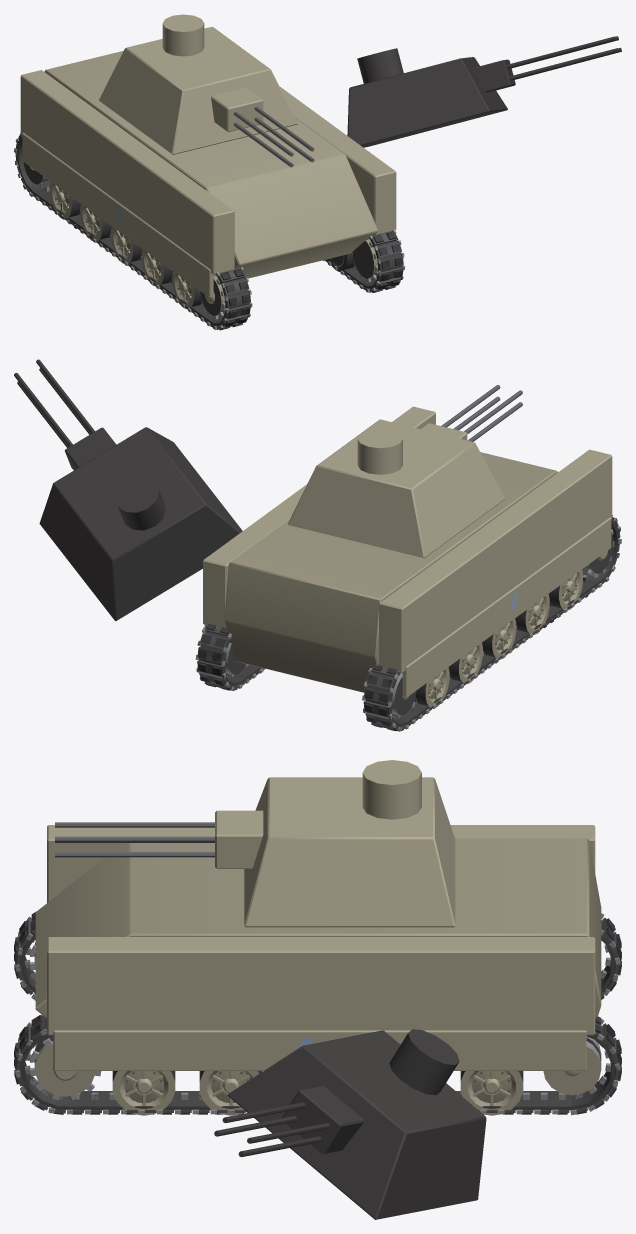
File: aaVehicle__sidam_25.glb
The picture shows the model from 3 angles, top to bottom: view 1: azimuth 30°, elevation 25°; view 2: azimuth 150°, elevation 25°; view 3: azimuth 270°, elevation 25°; orthographic projection. The views are drawn at different scales.
Parts seen in each view (by area): view 1: Hull_Mesh, Turret_Mesh, Wreck, Track_L_Mesh, Gun_Mesh, Track_R_Mesh, Sprocket_R_Mesh, Wheel_L3_Mesh, Wheel_L2_Mesh, Wheel_L1_Mesh, Wheel_L0_Mesh, Wheel_L4_Mesh (+1 smaller); view 2: Hull_Mesh, Wreck, Turret_Mesh, Track_L_Mesh, Track_R_Mesh, Gun_Mesh, Wheel_L0_Mesh, Wheel_L2_Mesh, Wheel_L1_Mesh, Wheel_L4_Mesh, Wheel_L3_Mesh, Idler_L_Mesh; view 3: Hull_Mesh, Wreck, Turret_Mesh, Track_R_Mesh, Gun_Mesh, Track_L_Mesh, Wheel_R4_Mesh, Wheel_R0_Mesh, Sprocket_R_Mesh, Wheel_R3_Mesh, Idler_R_Mesh.
Boxes of the visible parts, <box> form: Hull_Mesh: <box>20,51,396,297</box>; Turret_Mesh: <box>99,14,297,154</box>; Wreck: <box>14,36,621,329</box>; Track_L_Mesh: <box>14,133,252,330</box>; Gun_Mesh: <box>211,87,314,167</box>; Track_R_Mesh: <box>323,229,405,292</box>; Sprocket_R_Mesh: <box>352,239,377,282</box>; Wheel_L3_Mesh: <box>141,249,172,286</box>; Wheel_L2_Mesh: <box>111,226,142,263</box>; Wheel_L1_Mesh: <box>80,204,111,240</box>; Wheel_L0_Mesh: <box>49,182,81,219</box>; Wheel_L4_Mesh: <box>172,271,201,308</box>; Hull_Mesh: <box>203,406,612,697</box>; Wreck: <box>14,359,621,731</box>; Turret_Mesh: <box>288,419,504,557</box>; Track_L_Mesh: <box>362,515,621,731</box>; Track_R_Mesh: <box>195,623,264,690</box>; Gun_Mesh: <box>421,385,522,441</box>; Wheel_L0_Mesh: <box>414,667,449,707</box>; Wheel_L2_Mesh: <box>482,618,516,659</box>; Wheel_L1_Mesh: <box>448,643,482,683</box>; Wheel_L4_Mesh: <box>548,569,582,610</box>; Wheel_L3_Mesh: <box>515,594,549,635</box>; Idler_L_Mesh: <box>391,672,416,715</box>; Hull_Mesh: <box>35,825,601,1070</box>; Wreck: <box>14,912,621,1219</box>; Turret_Mesh: <box>244,760,455,927</box>; Track_R_Mesh: <box>14,1014,621,1115</box>; Gun_Mesh: <box>55,810,263,868</box>; Track_L_Mesh: <box>14,912,621,999</box>; Wheel_R4_Mesh: <box>112,1071,175,1115</box>; Wheel_R0_Mesh: <box>460,1071,523,1115</box>; Sprocket_R_Mesh: <box>29,1035,101,1100</box>; Wheel_R3_Mesh: <box>199,1071,262,1115</box>; Idler_R_Mesh: <box>543,1037,601,1095</box>.
Size of what is drawn, in the model's own units: 7.4 by 2.94 by 5.73.
